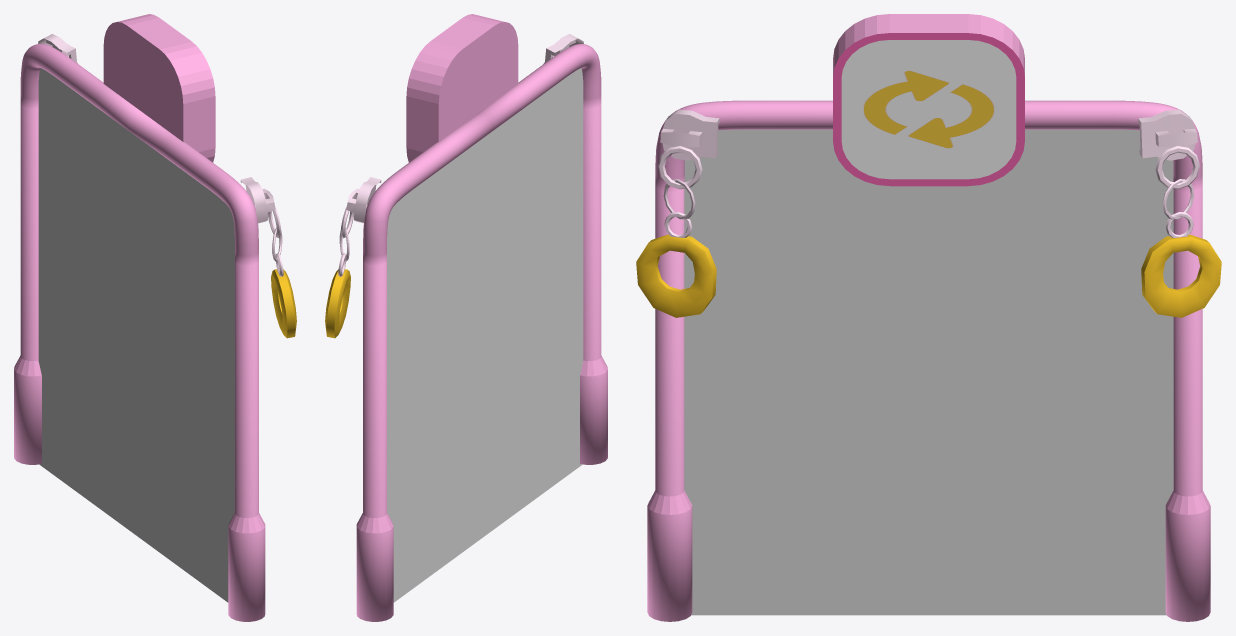
Rendered from Chain_Door.fbx.
3 renders of one model, left to right at view 1: azimuth 30°, elevation 25°; view 2: azimuth 150°, elevation 25°; view 3: azimuth 270°, elevation 25°, orthographic. The views are drawn at different scales.
Parts seen in each view (by area): view 1: Kapi Transperent.001, Chain_Door; view 2: Kapi Transperent.001, Chain_Door; view 3: Kapi Transperent.001, Chain_Door.
Part boxes in pixels (left/top/right/bottom): Kapi Transperent.001: left=38, top=68, right=234, bottom=602; Chain_Door: left=14, top=14, right=296, bottom=621; Kapi Transperent.001: left=387, top=68, right=583, bottom=602; Chain_Door: left=325, top=14, right=607, bottom=621; Kapi Transperent.001: left=684, top=129, right=1173, bottom=615; Chain_Door: left=636, top=14, right=1221, bottom=621.
Size of the model in its own units: 87.05 by 591 by 520.
